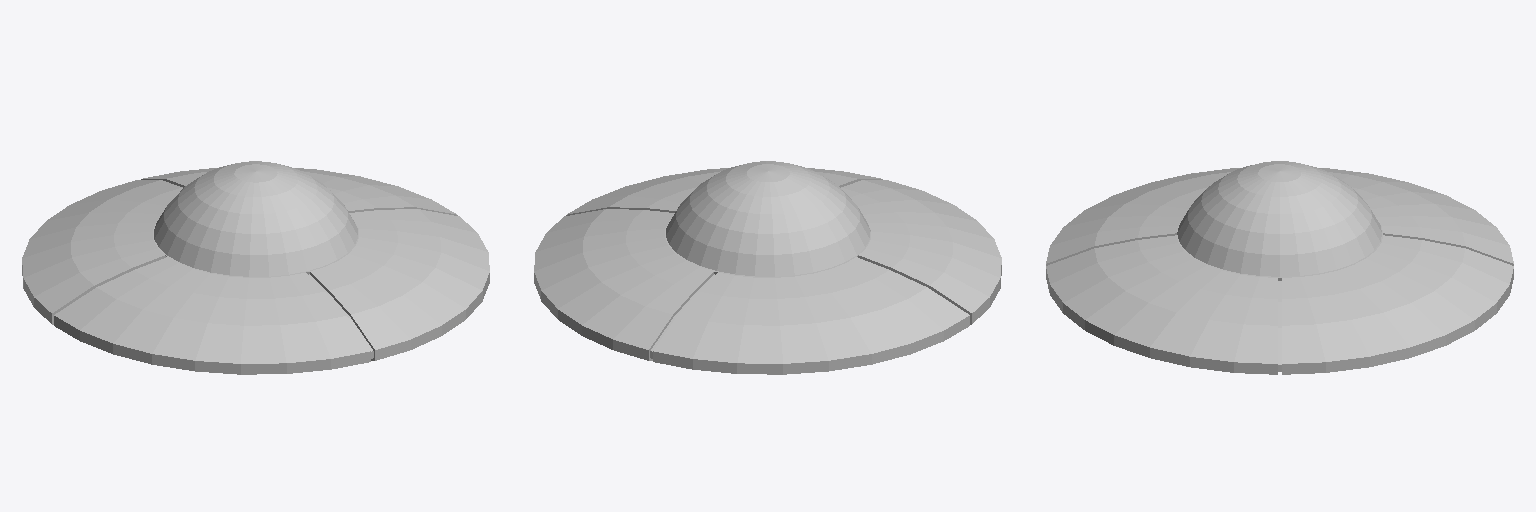
The model's file is Low_poly_UFO_Triangulate_HistoryDelete.obj.
3 views of the same model, side by side, from view 1: azimuth 30°, elevation 25°; view 2: azimuth 150°, elevation 25°; view 3: azimuth 270°, elevation 25° (orthographic).
Parts seen in each view (by area): view 1: UFO_cockpit1; view 2: UFO_cockpit1; view 3: UFO_cockpit1.
Boxes of the visible parts, x1,y1,x2,y2 form: UFO_cockpit1: [22, 161, 489, 374]; UFO_cockpit1: [534, 161, 1001, 374]; UFO_cockpit1: [1046, 161, 1513, 374].
Bounding box in the file's own units: 67.87 × 27.04 × 67.87.